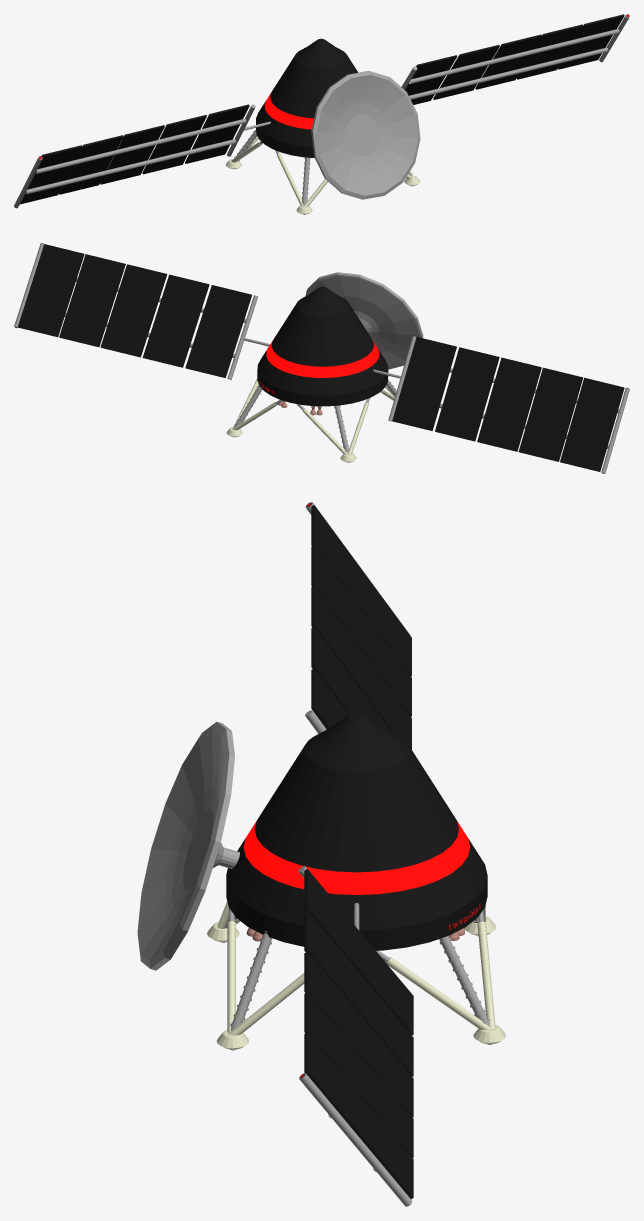
Rendered from europa_horizon_drifter_x1_no_parachute.glb.
3 views of the same model, one above another, from view 1: azimuth 30°, elevation 25°; view 2: azimuth 150°, elevation 25°; view 3: azimuth 270°, elevation 25° (orthographic). The views are drawn at different scales.
Parts seen in each view (by area): view 1: Radar_001, Cube_005, Cube_010, Europa_Horizon_Drifter_X1, Cylinder_028, Cylinder_033, Leg_Part_A_02; view 2: Cube_005, Cube_010, Europa_Horizon_Drifter_X1, Radar_001, Cylinder_028, Cylinder_033, Leg_Part_A_04, Leg_Part_A_03; view 3: Europa_Horizon_Drifter_X1, Cube_010, Cube_005, Radar_001, Leg_Part_A_03, Leg_Part_A_01, Cylinder_033, Leg_Part_B_01, Leg_Part_B_03.
Boxes of the visible parts, x1,y1,x2,y2 form: Radar_001: (311, 71, 420, 199); Cube_005: (20, 104, 249, 204); Cube_010: (405, 14, 624, 104); Europa_Horizon_Drifter_X1: (256, 38, 357, 157); Cylinder_028: (14, 104, 255, 208); Cylinder_033: (401, 14, 629, 99); Leg_Part_A_02: (275, 150, 327, 207); Cube_005: (392, 337, 624, 471); Cube_010: (18, 244, 251, 377); Europa_Horizon_Drifter_X1: (257, 286, 388, 406); Radar_001: (305, 272, 423, 369); Cylinder_028: (388, 336, 629, 473); Cylinder_033: (14, 243, 257, 380); Leg_Part_A_04: (297, 398, 370, 455); Leg_Part_A_03: (232, 378, 282, 430); Europa_Horizon_Drifter_X1: (226, 712, 487, 950); Cube_010: (304, 869, 413, 1199); Cube_005: (311, 505, 411, 749); Radar_001: (137, 722, 239, 970); Leg_Part_A_03: (376, 910, 495, 1029); Leg_Part_A_01: (227, 908, 304, 1035); Cylinder_033: (298, 866, 412, 1206); Leg_Part_B_01: (230, 931, 272, 1031); Leg_Part_B_03: (439, 936, 489, 1026).
Size of the model in its own units: 18.37 by 4.08 by 4.97.
